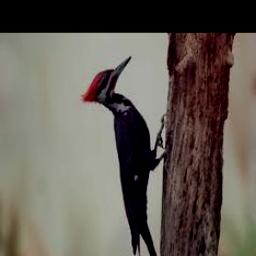Woodpecker: (82, 55, 167, 256)
